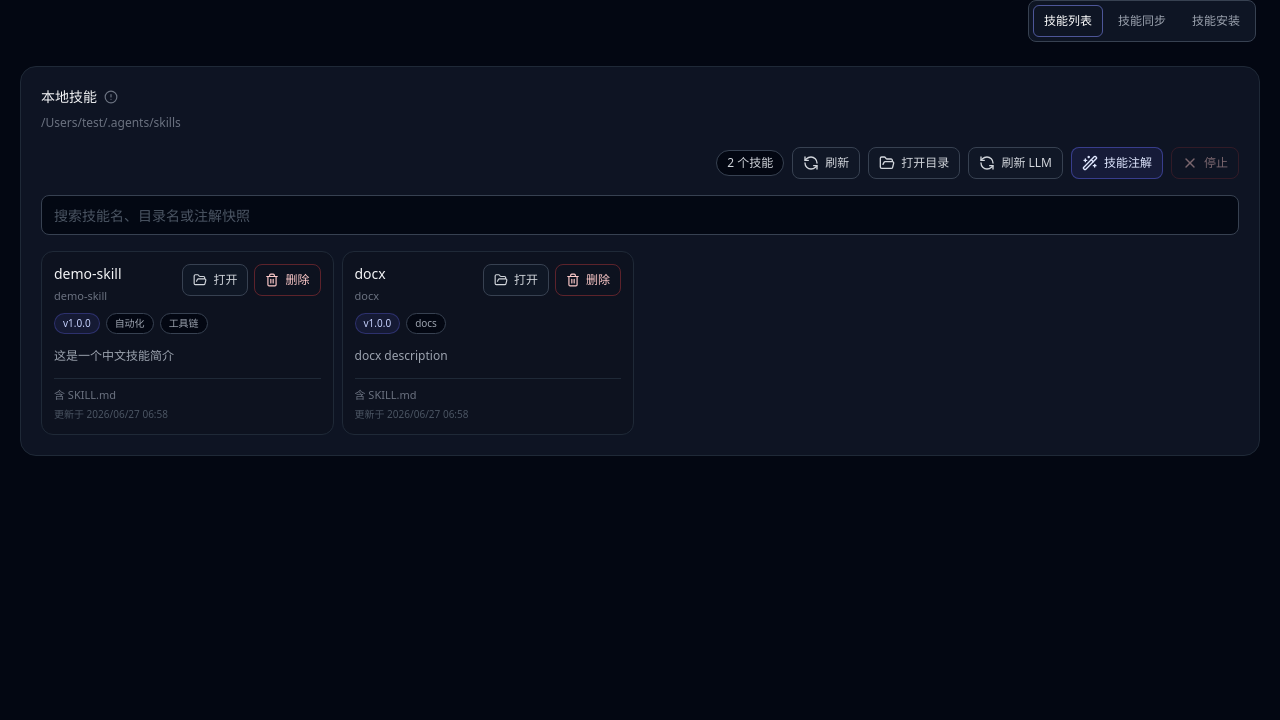
Scenario: SkillsPage › shows enriched chinese description and tooltip details
The image size is (1280, 720).
Expected: the heading "本地技能" is shown, [41,87,97,107]
Hover over the button with aria-label "查看 demo-skill 的技能详情" at (114, 355), box [54,346,320,366]
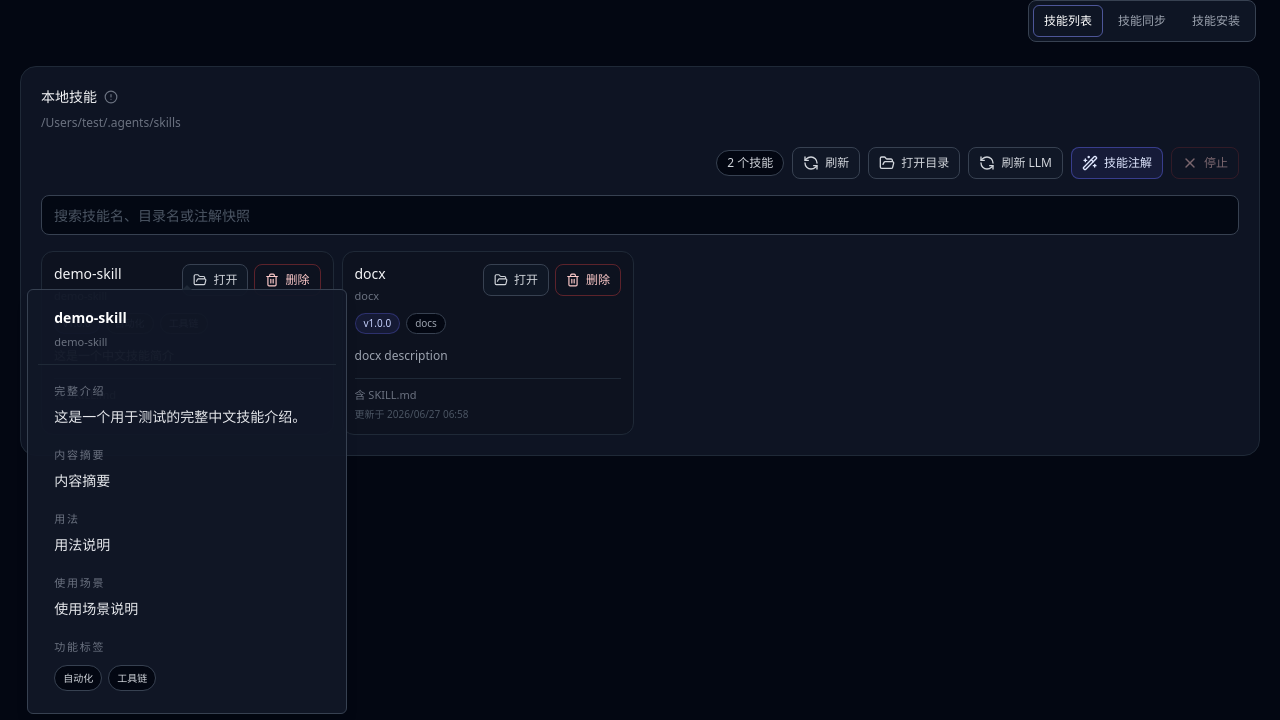
Result: the text "完整介绍" is shown at [54,383,105,398]
Result: the text "这是一个用于测试的完整中文技能介绍。" is shown at [54,405,320,429]
